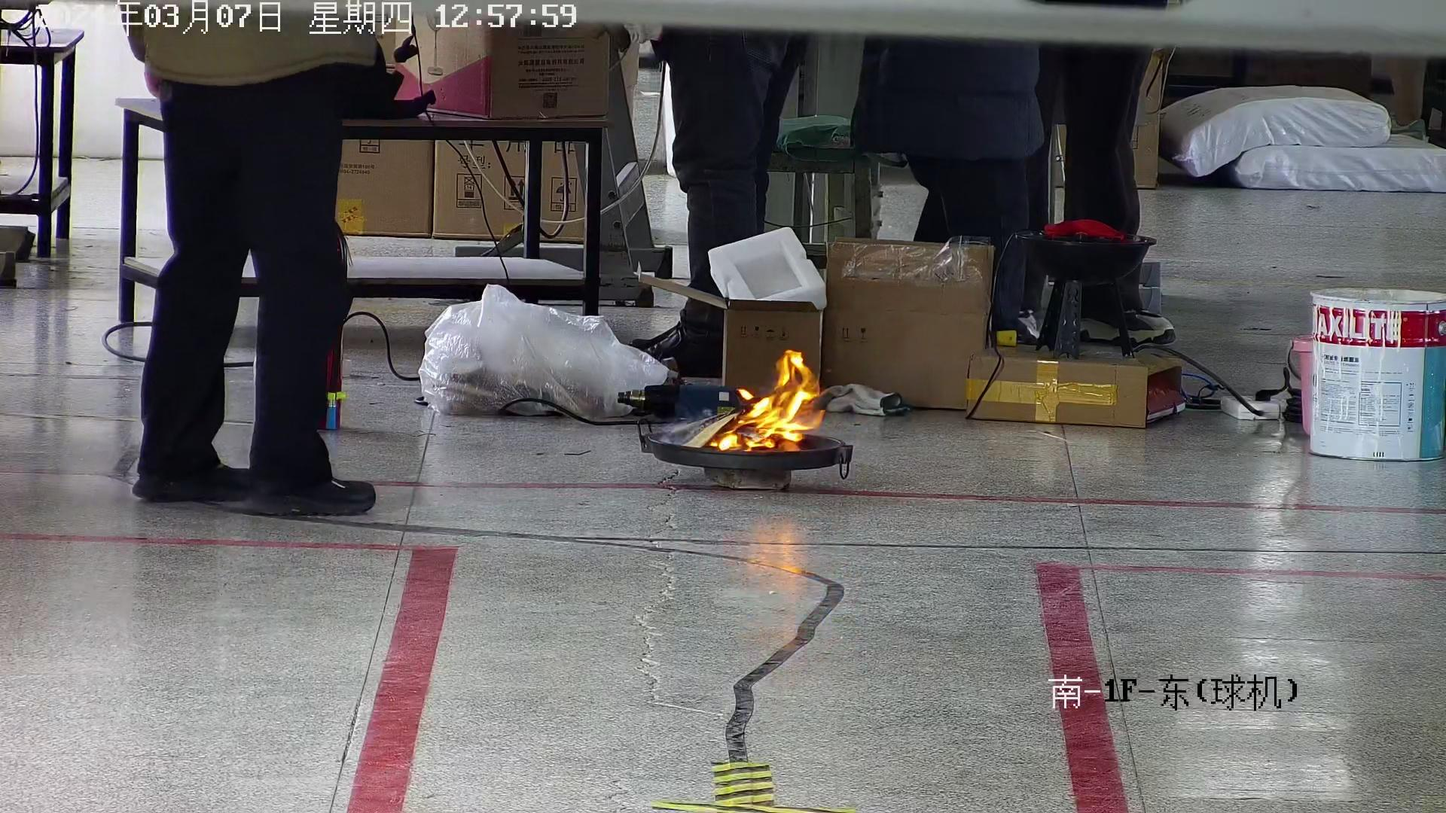fire: (702, 349, 823, 450)
